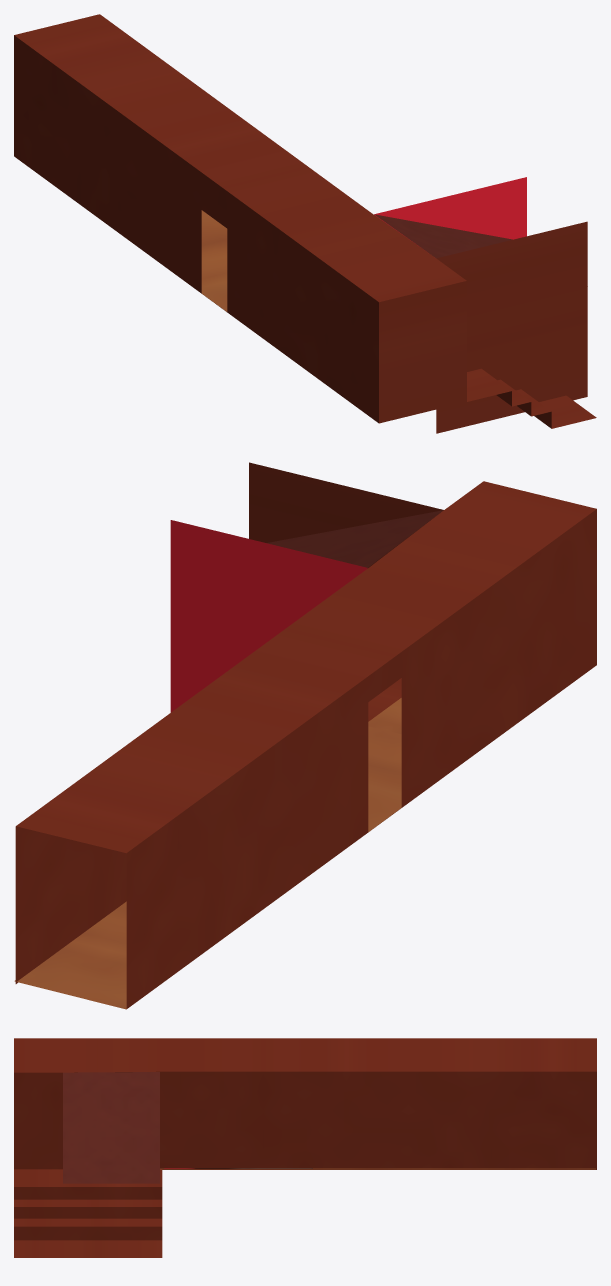
Rendered from Paredes pasillo.fbx.
3 views of the same model, one above another, from view 1: azimuth 30°, elevation 25°; view 2: azimuth 150°, elevation 25°; view 3: azimuth 270°, elevation 25° (orthographic). The views are drawn at different scales.
Visible parts, largest first — view 1: Paredes y Suelo; view 2: Paredes y Suelo; view 3: Paredes y Suelo.
Boxes of the visible parts, x1=… form: Paredes y Suelo: x1=14, y1=14, x2=596, y2=433; Paredes y Suelo: x1=14, y1=462, x2=596, y2=1009; Paredes y Suelo: x1=14, y1=1038, x2=596, y2=1257.
Size of the model in its own units: 596 by 417 by 1571.
